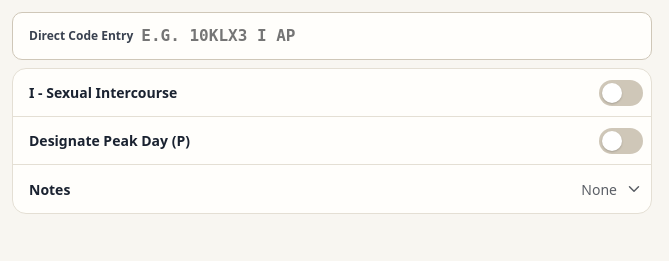
ProgressiveObservationForm › hides the group rows and keeps the parse in Direct Code Only
The width and height of the screenshot is (669, 261).
Check: the switch labelled "Designate Peak Day (P)" is shown, box [13, 117, 651, 165]
Type "H" into the field labelled "Direct Code Entry" at (394, 36), box [141, 14, 647, 58]
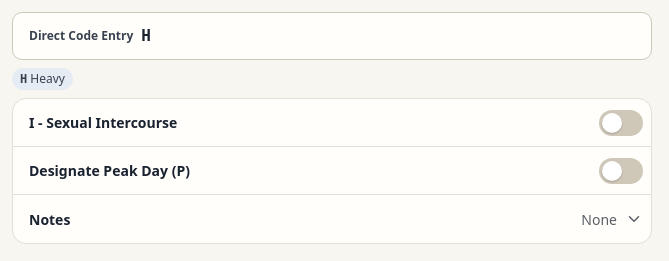
Check: the list named "How the app reads the code" shows "H", box [20, 72, 27, 86]
